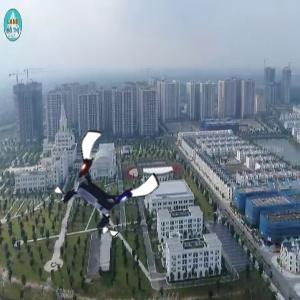drone: (58, 137, 151, 230)
